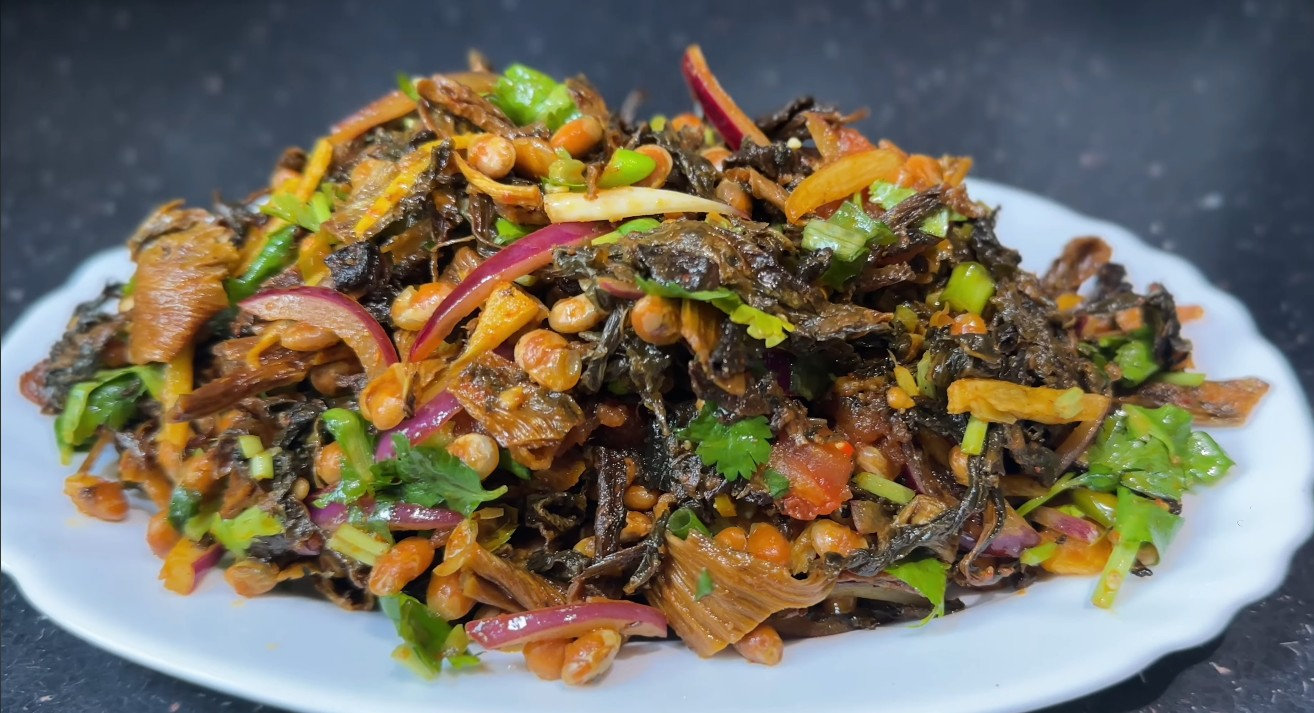gundruk: (80, 88, 1193, 598)
